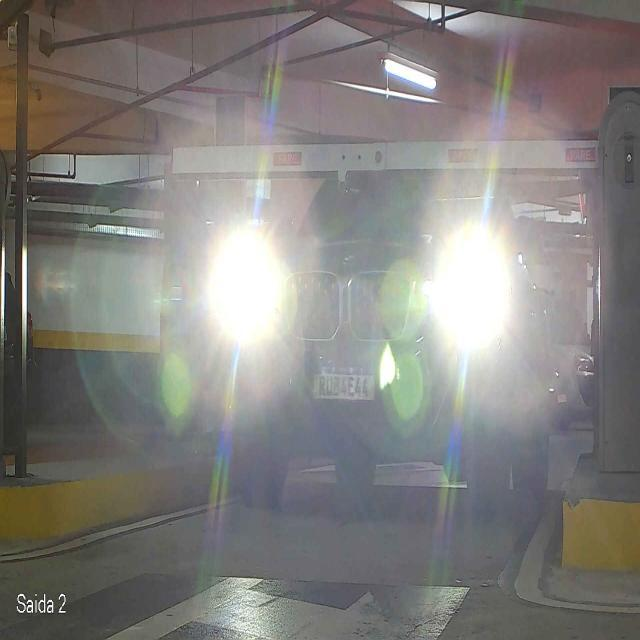mercosul_plate: (308, 362, 380, 404)
